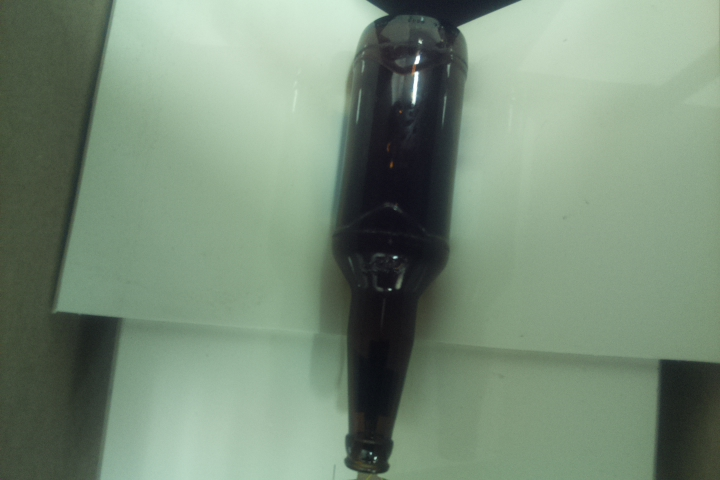makju: (327, 13, 473, 477)
